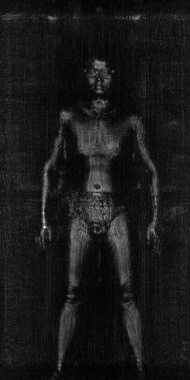gun: (54, 182, 83, 221)
